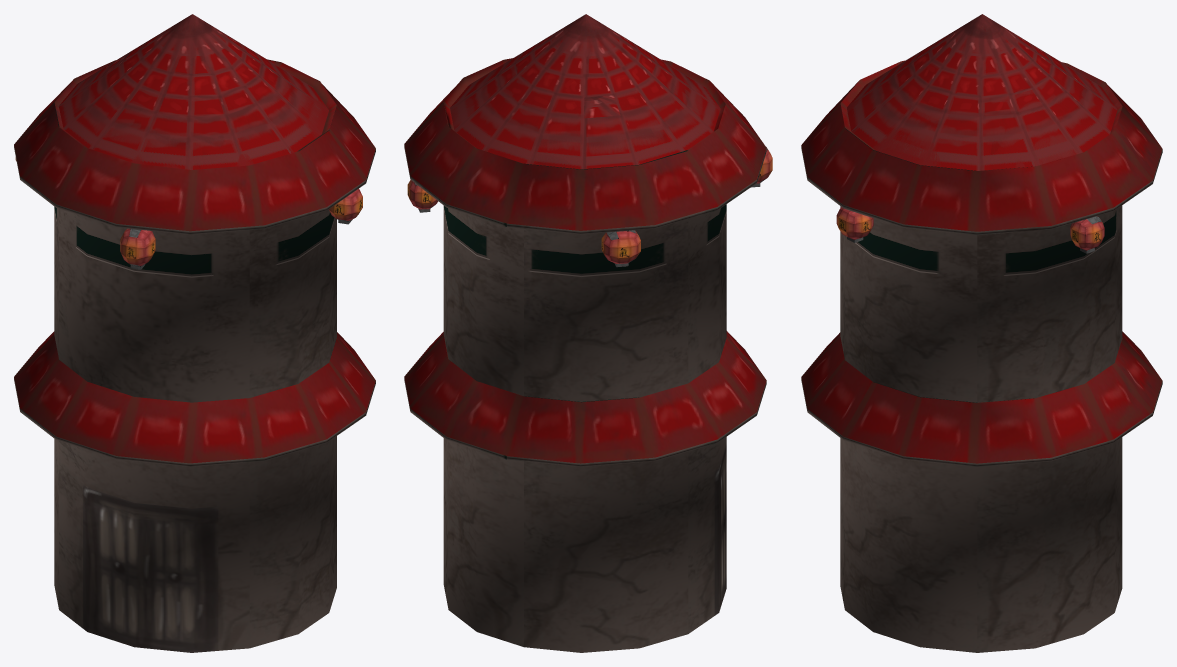
Rendered from Tower 3 upgrade 1.fbx.
3 renders of one model, left to right at view 1: azimuth 30°, elevation 25°; view 2: azimuth 150°, elevation 25°; view 3: azimuth 270°, elevation 25°, orthographic.
Parts seen in each view (by area): view 1: Cylinder, Cylinder.2, Cone, lampion 1.2.2, lampion 1.2; view 2: Cylinder, Cylinder.2, Cone, lampion 1.1, lampion 1; view 3: Cylinder, Cylinder.2, Cone, lampion 1, lampion 1.2.
Part boxes in pixels (left/top/right/bottom): Cylinder: left=14, top=331, right=375, bottom=652; Cylinder.2: left=14, top=59, right=375, bottom=402; Cone: left=58, top=14, right=328, bottom=169; lampion 1.2.2: left=120, top=228, right=155, bottom=269; lampion 1.2: left=329, top=188, right=362, bottom=224; Cylinder: left=404, top=331, right=766, bottom=652; Cylinder.2: left=404, top=58, right=766, bottom=401; Cone: left=450, top=14, right=720, bottom=169; lampion 1.1: left=601, top=230, right=640, bottom=267; lampion 1: left=407, top=180, right=438, bottom=212; Cylinder: left=801, top=331, right=1162, bottom=652; Cylinder.2: left=801, top=60, right=1162, bottom=402; Cone: left=847, top=14, right=1117, bottom=170; lampion 1: left=1070, top=216, right=1104, bottom=253; lampion 1.2: left=836, top=207, right=873, bottom=242.
Bounding box in the file's own units: 243 × 431 × 244.
Materials: 7 (7 with a texture image).
